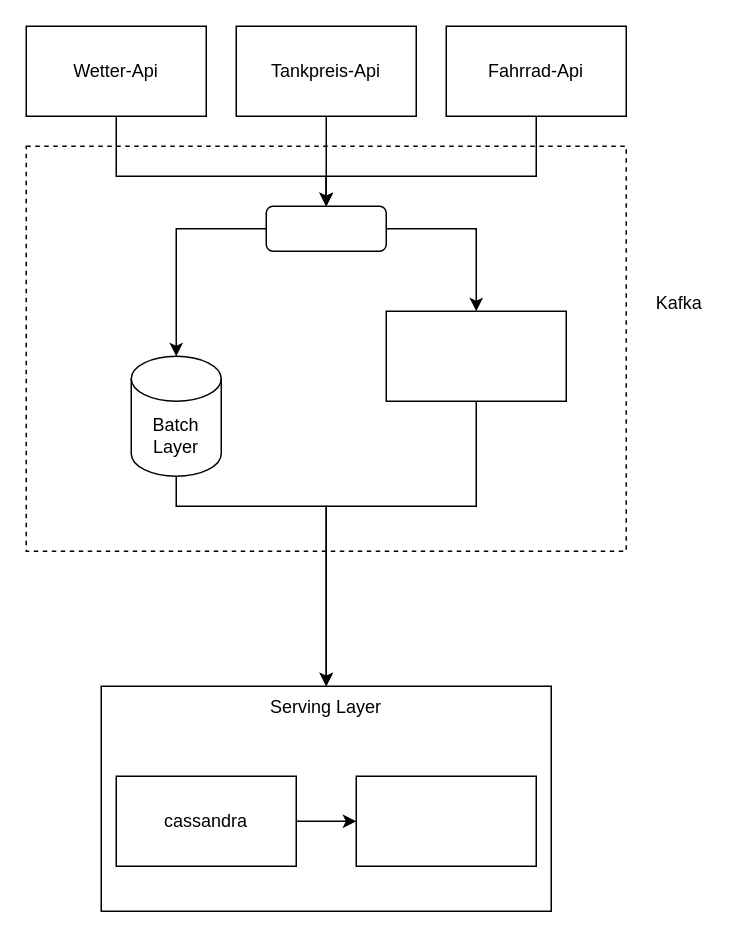
Image size: 743x938. Some labels were removed from this diagram. Each missing label, with the centre of its shape:
"Input" belongs at pixel 325 228.
"Speed Layer" belongs at pixel 475 355.
"Superset" belongs at pixel 445 820.
